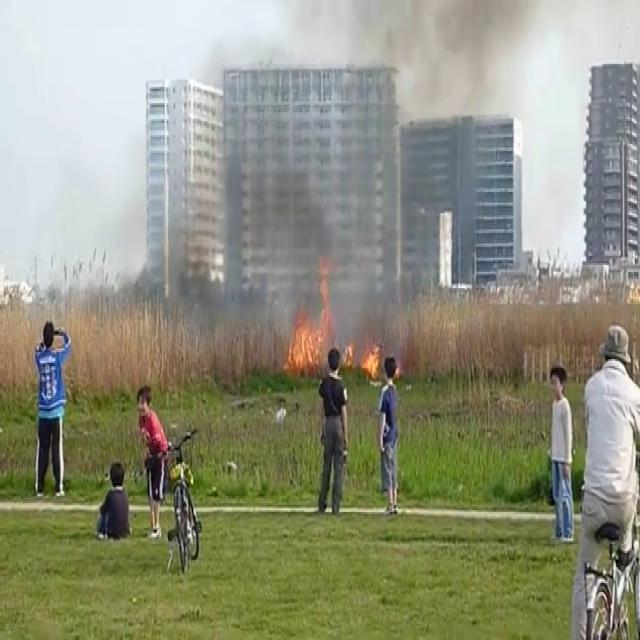Fire: (283, 271, 385, 381)
Smoke: (139, 1, 507, 331)
